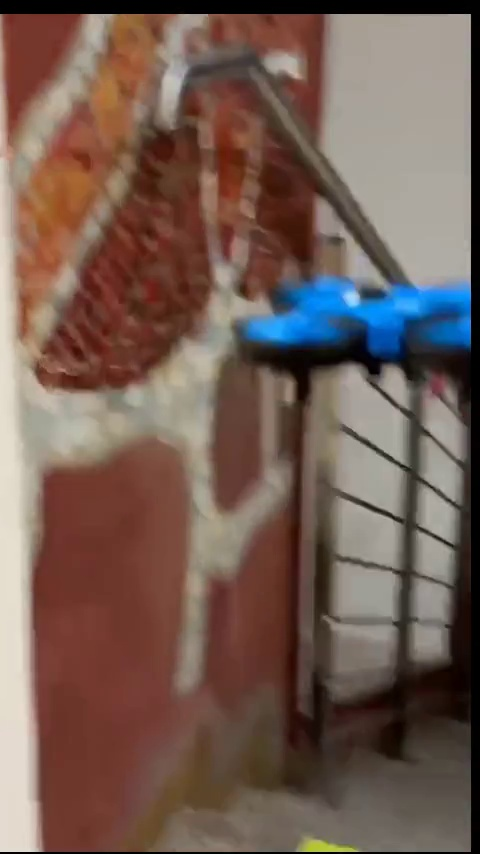drone: (229, 267, 467, 387)
